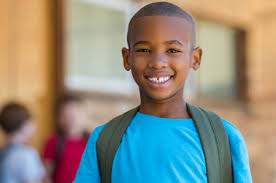person: (121, 1, 203, 104)
